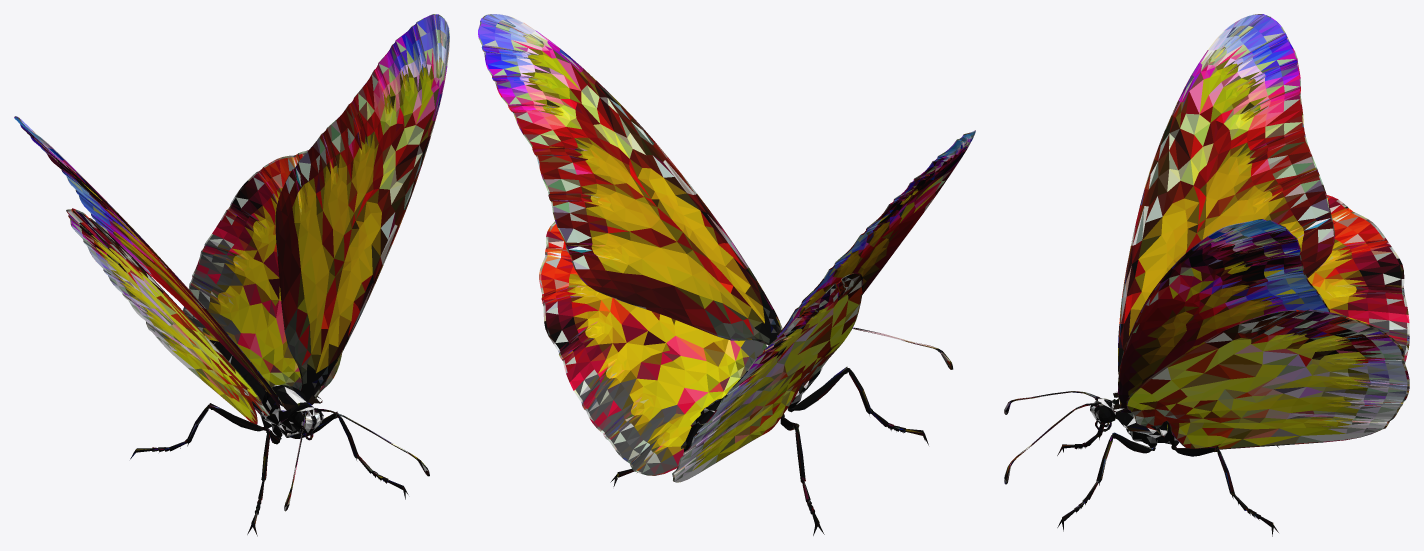
File: AnimalButterfly.fbx
The picture shows the model from 3 angles, left to right: view 1: azimuth 30°, elevation 25°; view 2: azimuth 150°, elevation 25°; view 3: azimuth 270°, elevation 25°; orthographic projection. The views are drawn at different scales.
Parts seen in each view (by area): view 1: batterfly_yellow; view 2: batterfly_yellow; view 3: batterfly_yellow.
Part boxes in pixels (x1=…): batterfly_yellow: x1=14, y1=14, x2=449, y2=536; batterfly_yellow: x1=478, y1=14, x2=975, y2=535; batterfly_yellow: x1=1004, y1=14, x2=1409, y2=536.
Bounding box in the file's own units: 111 × 94.9 × 92.6.
1 material, 1 textured.
